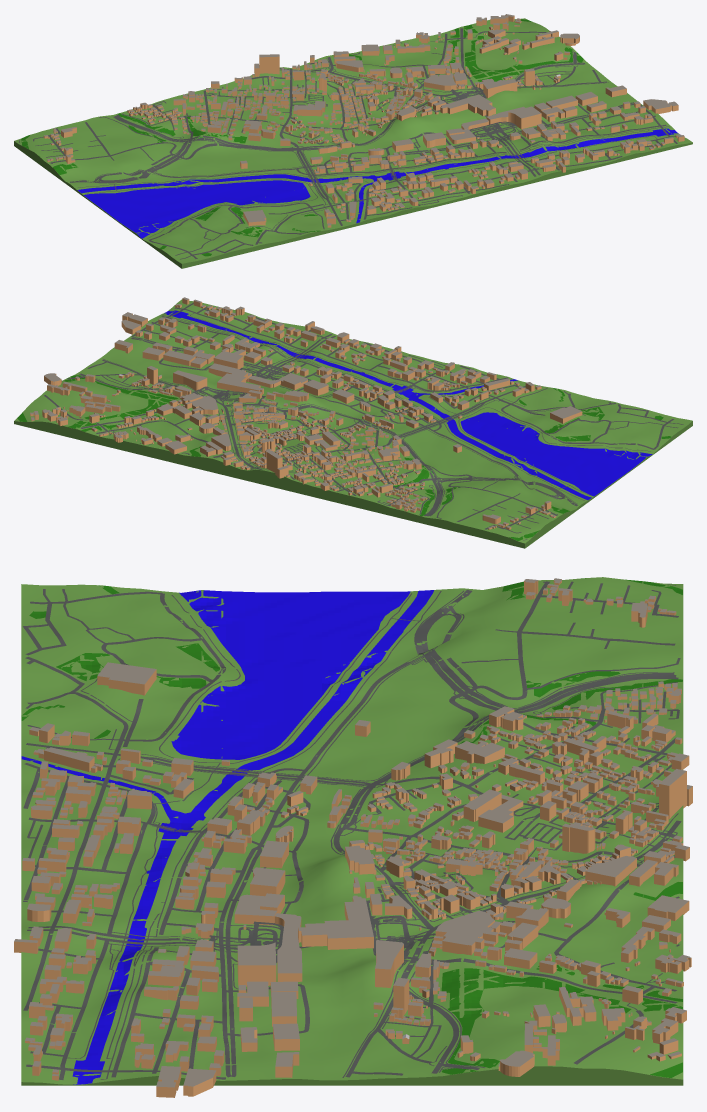
The model's file is mito.fbx.
The picture shows the model from 3 angles, top to bottom: view 1: azimuth 30°, elevation 25°; view 2: azimuth 150°, elevation 25°; view 3: azimuth 270°, elevation 25°; orthographic projection. The views are drawn at different scales.
Parts seen in each view (by area): view 1: Terrain, map_9.osm_buildings, map_9.osm_water, map_9.osm_roads_tertiary, map_9.osm_roads_unclassified, map_9.osm_paths_footway, map_9.osm_forest, map_9.osm_roads_service, map_9.osm_roads_primary, map_9.osm_roads_trunk, map_9.osm_roads_pedestrian; view 2: Terrain, map_9.osm_buildings, map_9.osm_water, map_9.osm_roads_tertiary, map_9.osm_roads_unclassified, map_9.osm_paths_footway, map_9.osm_forest, map_9.osm_roads_service, map_9.osm_roads_primary, map_9.osm_roads_trunk, map_9.osm_roads_pedestrian; view 3: Terrain, map_9.osm_buildings, map_9.osm_water, map_9.osm_roads_tertiary, map_9.osm_roads_unclassified, map_9.osm_forest, map_9.osm_paths_footway, map_9.osm_roads_service, map_9.osm_roads_primary, map_9.osm_roads_trunk, map_9.osm_roads_pedestrian, map_9.osm_roads_residential.
Boxes of the visible parts, x1,y1,x2,y2 form: Terrain: (14,18,692,268); map_9.osm_buildings: (43,14,684,227); map_9.osm_water: (77,128,678,238); map_9.osm_roads_tertiary: (92,64,677,240); map_9.osm_roads_unclassified: (50,31,675,258); map_9.osm_paths_footway: (19,34,657,238); map_9.osm_forest: (21,19,583,256); map_9.osm_roads_service: (33,42,571,259); map_9.osm_roads_primary: (70,96,441,182); map_9.osm_roads_trunk: (114,57,584,141); map_9.osm_roads_pedestrian: (268,87,516,214); Terrain: (14,299,692,548); map_9.osm_buildings: (30,297,582,529); map_9.osm_water: (164,310,652,499); map_9.osm_roads_tertiary: (102,303,653,515); map_9.osm_roads_unclassified: (44,306,673,521); map_9.osm_paths_footway: (67,313,650,540); map_9.osm_forest: (17,375,671,540); map_9.osm_roads_service: (101,355,683,533); map_9.osm_roads_primary: (226,404,577,506); map_9.osm_roads_trunk: (79,373,443,516); map_9.osm_roads_pedestrian: (191,364,545,417); Terrain: (21,577,683,1085); map_9.osm_buildings: (14,578,692,1097); map_9.osm_water: (21,590,433,1084); map_9.osm_roads_tertiary: (23,593,678,1079); map_9.osm_roads_unclassified: (23,581,678,1079); map_9.osm_forest: (21,578,682,1077); map_9.osm_paths_footway: (65,584,678,1077); map_9.osm_roads_service: (25,581,680,1058); map_9.osm_roads_primary: (333,590,517,929); map_9.osm_roads_trunk: (401,673,681,1073); map_9.osm_roads_pedestrian: (123,699,464,959); map_9.osm_roads_residential: (23,595,678,1075).
Bounding box in the file's own units: 186557 × 10211 × 104667.
